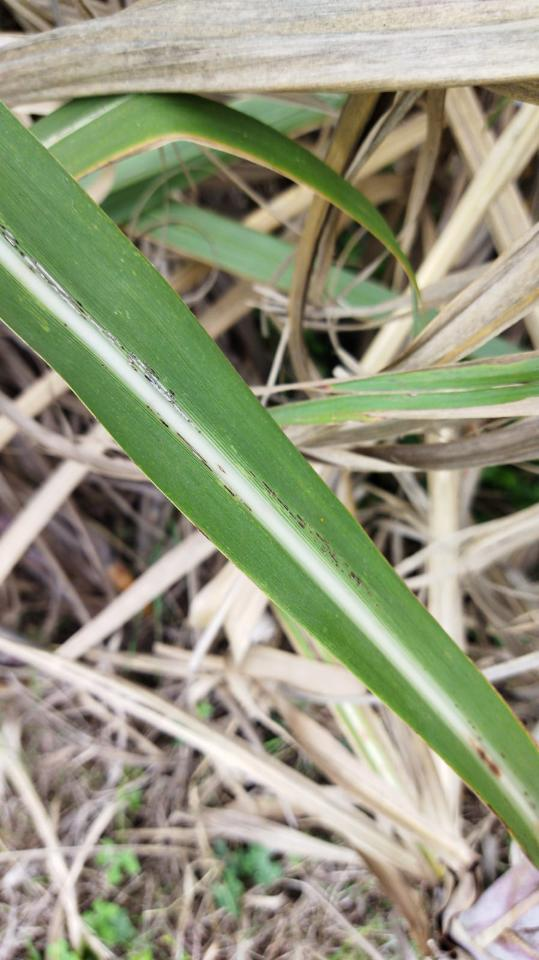RedRot: (470, 739, 503, 778)
Rust: (0, 219, 200, 430), (248, 469, 372, 599), (145, 404, 254, 514), (99, 361, 109, 371), (62, 322, 68, 328)
